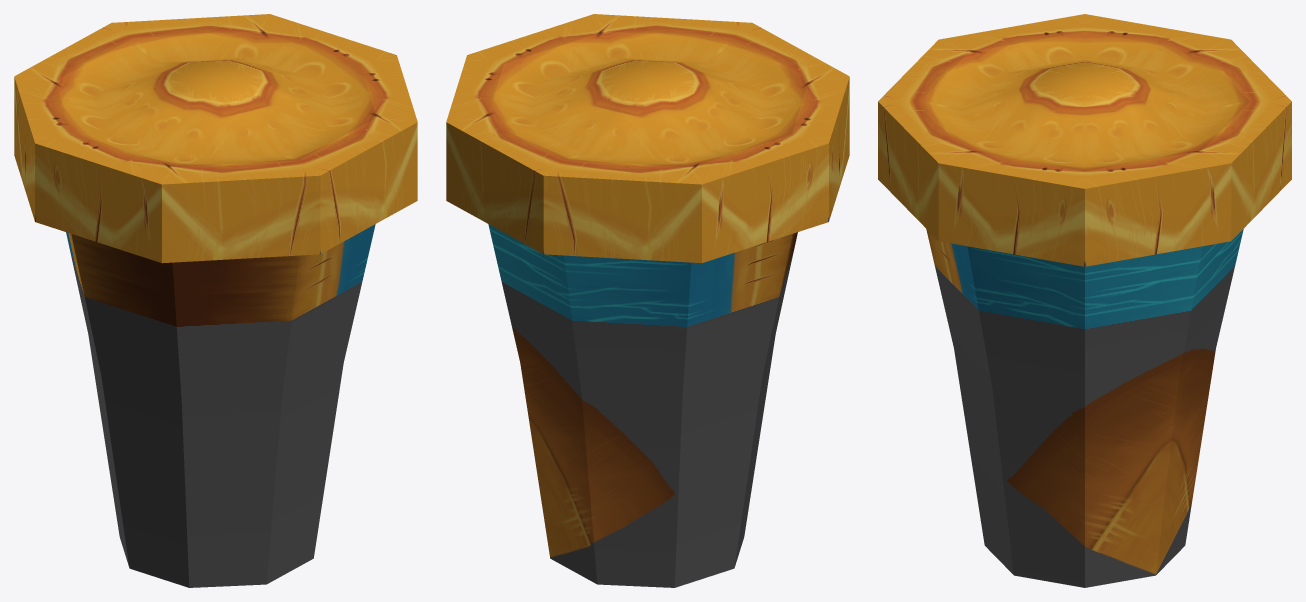
The model's file is RELIC_environment_pot_mesh.fbx.
The picture shows the model from 3 angles, left to right: view 1: azimuth 30°, elevation 25°; view 2: azimuth 150°, elevation 25°; view 3: azimuth 270°, elevation 25°; orthographic projection.
Parts seen in each view (by area): view 1: polySurface6; view 2: polySurface6; view 3: polySurface6.
Part boxes in pixels (x1,y1,x2,y2): polySurface6: (14, 14, 417, 587); polySurface6: (446, 14, 849, 587); polySurface6: (878, 14, 1291, 587).
Size of the model in its own units: 2.78 by 3.43 by 2.78.
